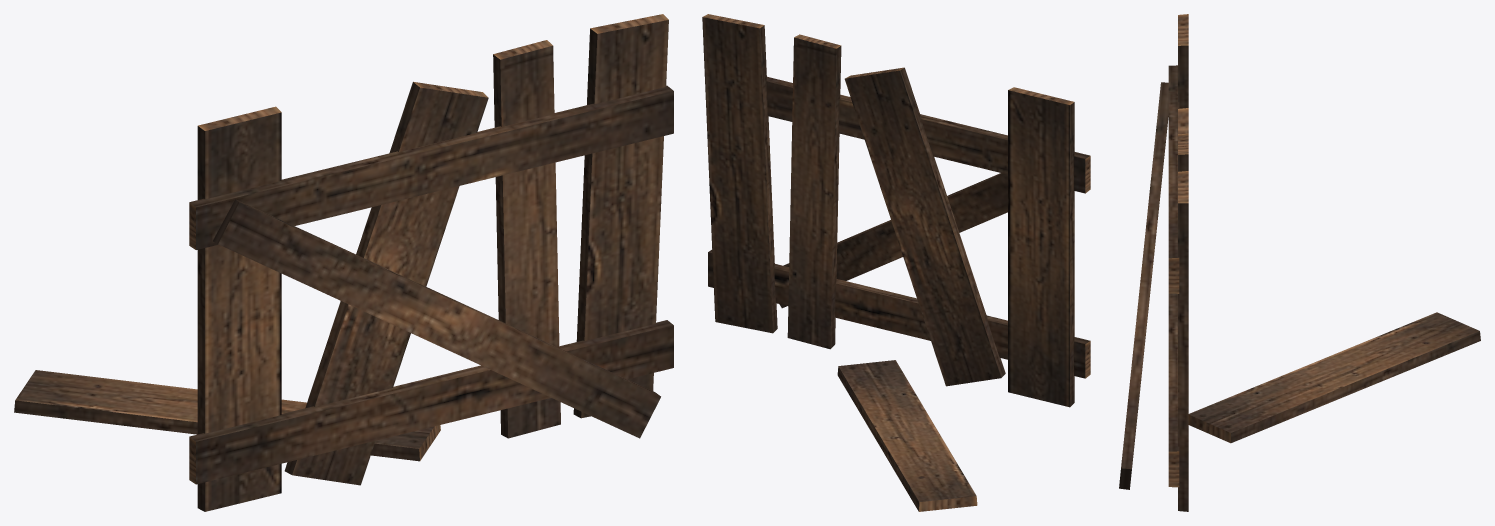
The model's file is wood_fence_3.fbx.
The picture shows the model from 3 angles, left to right: view 1: azimuth 30°, elevation 25°; view 2: azimuth 150°, elevation 25°; view 3: azimuth 270°, elevation 25°; orthographic projection. The views are drawn at different scales.
Visible parts, largest first — view 1: wood_fence_3; view 2: wood_fence_3; view 3: wood_fence_3.
Part boxes in pixels (x1,y1,x2,y2): wood_fence_3: (14,14,673,511); wood_fence_3: (702,14,1090,511); wood_fence_3: (1119,14,1480,511).
Bounding box in the file's own units: 3.13 × 2.37 × 2.38.
